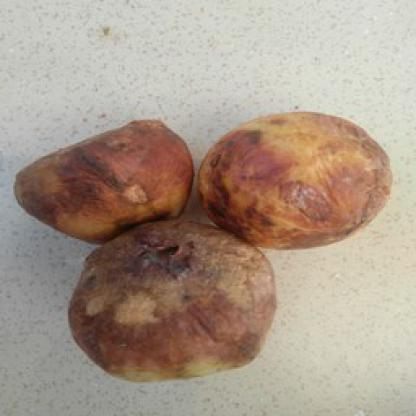guava_rotten: (60, 216, 280, 384), (197, 106, 393, 252), (10, 116, 197, 246)
